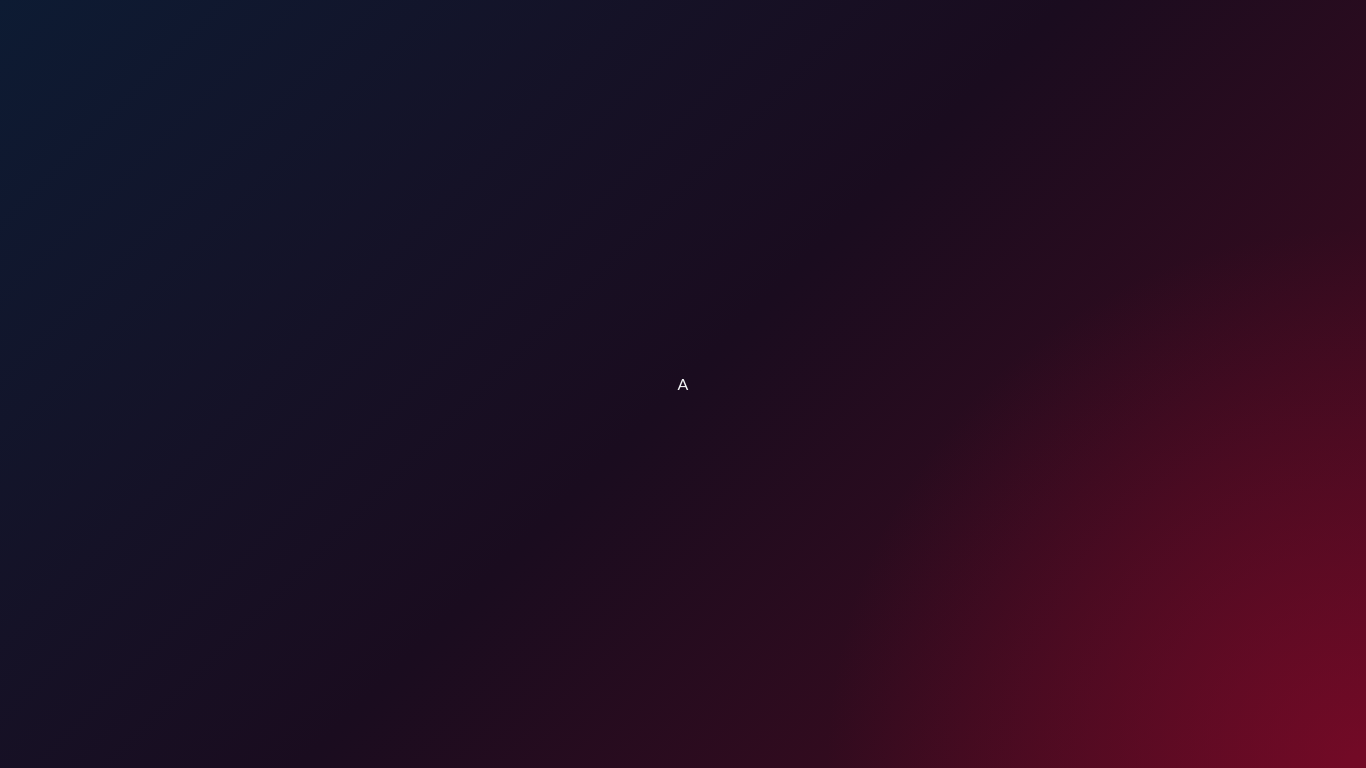
Test: UserMenu › offers stop impersonating and an expiry warning
Later steps or results of the test are not shown.
Click the button named "Ann".
click(683, 384)  # box [678,371,688,397]
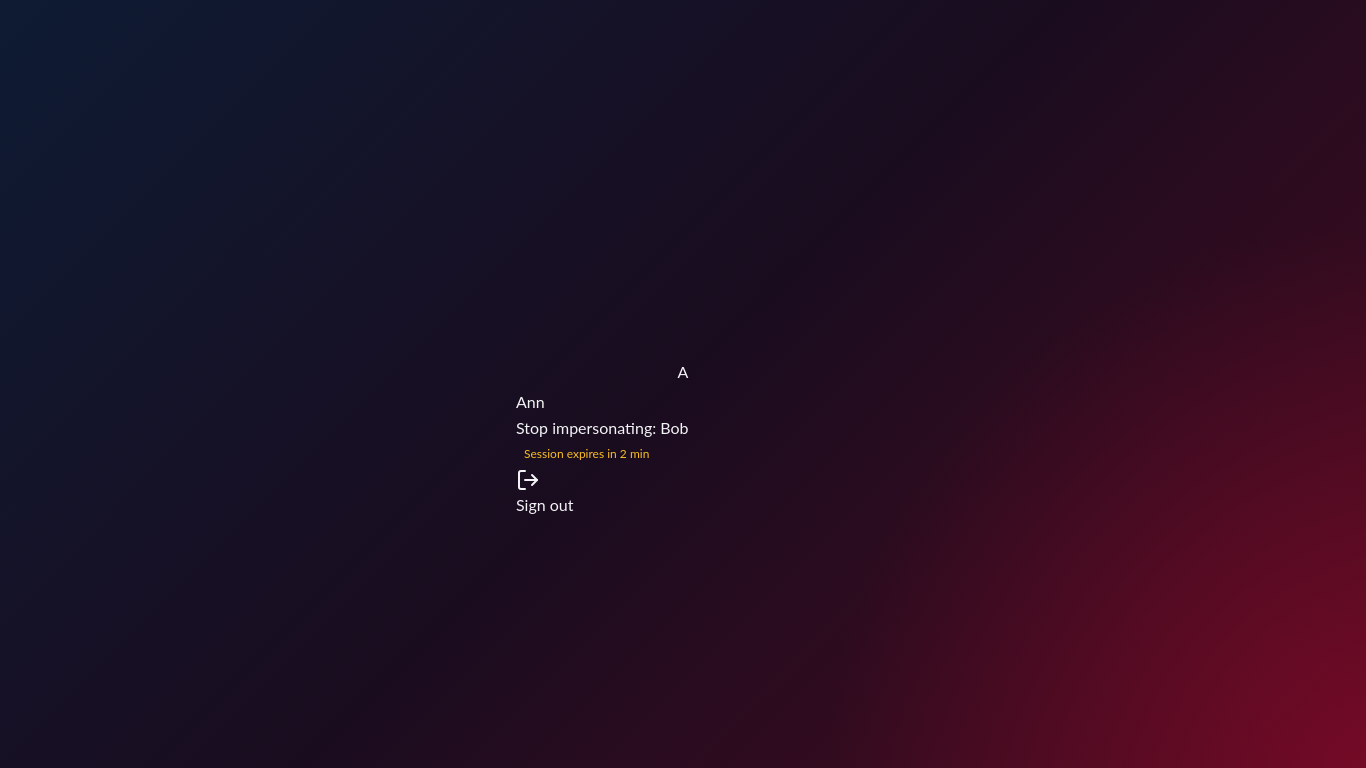
Now the text "Session expires in 2 min" is shown, box [524,446,649,461]
